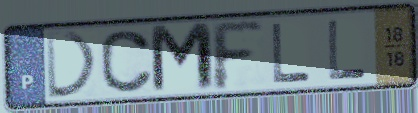C: (97, 28, 157, 95)
D: (43, 30, 102, 102)
F: (206, 20, 266, 94)
L: (269, 20, 313, 84), (325, 18, 368, 82)
M: (146, 20, 218, 97)
